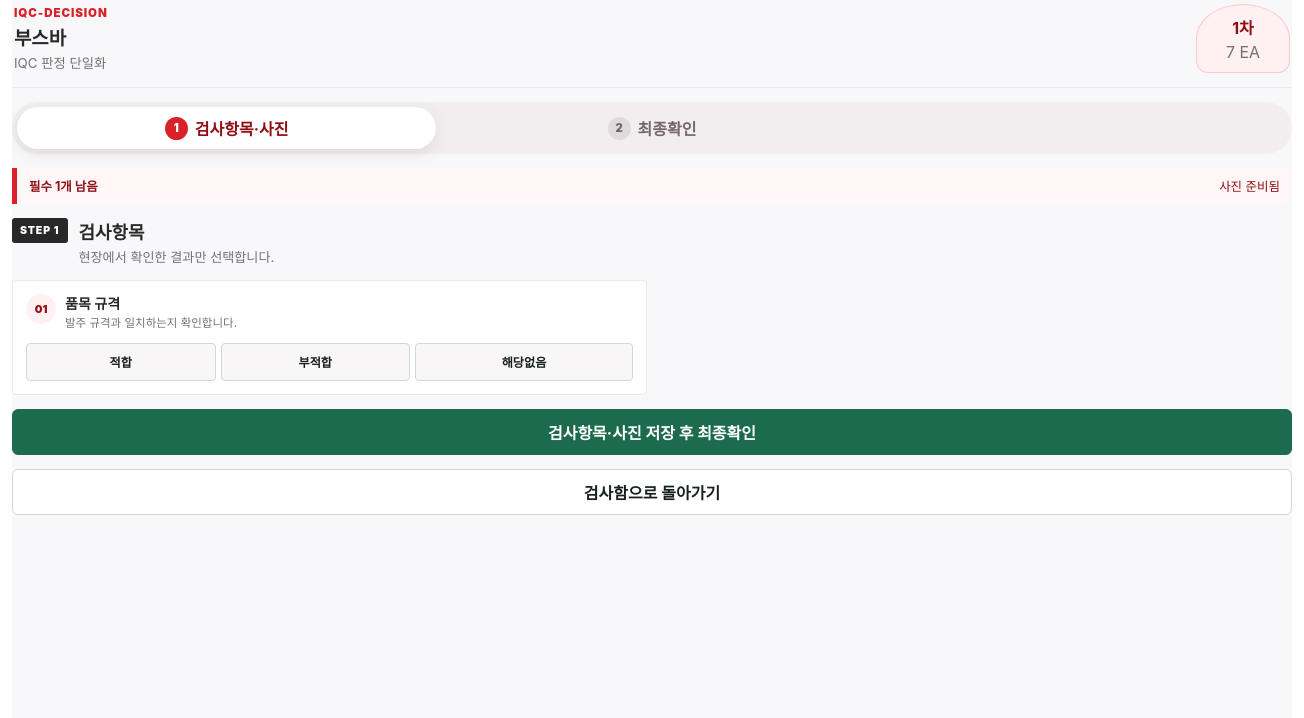
it: IqcReportWorkspace › shows only the Fail-derived final action
Click the button "부적합" at (315,362), box [220,342,410,380]
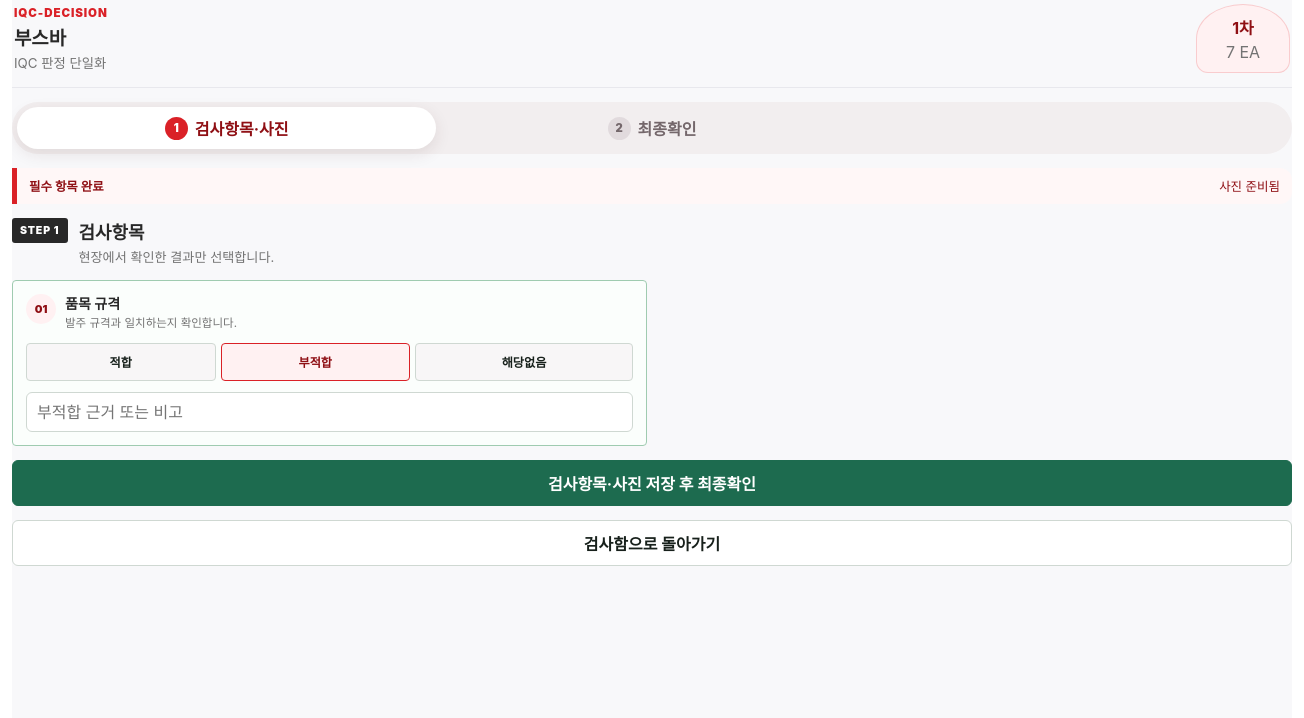
Click the button "검사항목·사진 저장 후 최종확인" at (652,482), box [12,460,1292,506]
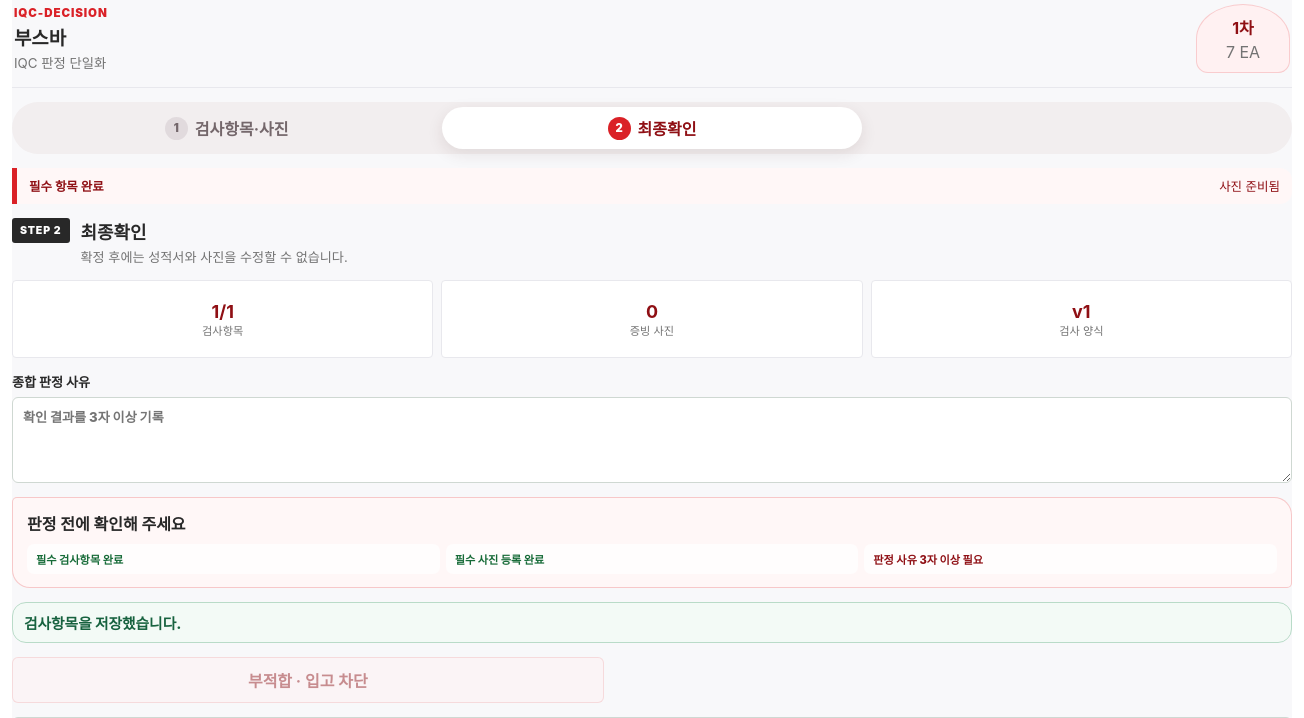
expect the button "부적합 · 입고 차단" is shown: met, box [12,657,604,703]
